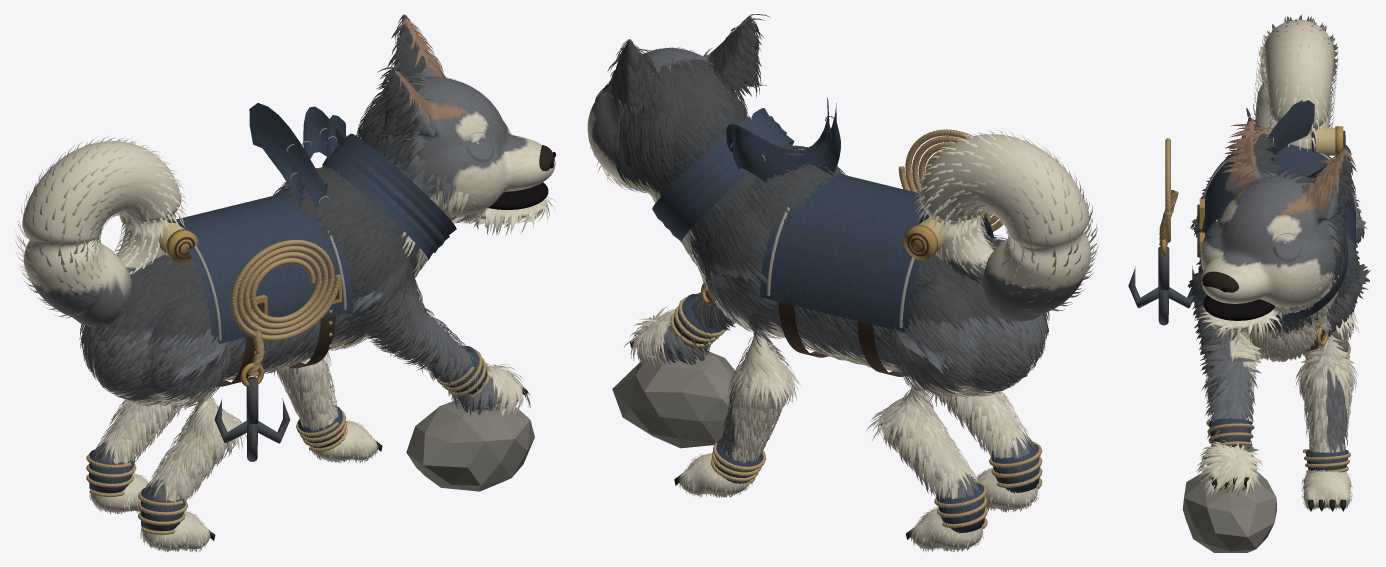
File: 09_Mine.glb
3 views of the same model, side by side, from view 1: azimuth 30°, elevation 25°; view 2: azimuth 150°, elevation 25°; view 3: azimuth 270°, elevation 25° (orthographic). The views are drawn at different scales.
Parts seen in each view (by area): view 1: FUR | groomed tapered surface clumps, ANATOMY | unified canine skin, ANATOMY | sculpted tail, TACK | fitted saddle cloth, DISPLAY | cliff foothold, FUR | directional tail plume, EXPORT | CLIMB | coiled hemp rope twisted ply.001, EXPORT | CLIMB | coiled hemp rope twisted ply, EXPORT | CLIMB | coiled hemp rope twisted ply.002, CLOTH | trailing scarf panel 0, CLOTH | trailing scarf panel 1, CLOTH | layered neck scarf.002 (+8 smaller); view 2: FUR | groomed tapered surface clumps, ANATOMY | unified canine skin, ANATOMY | sculpted tail, TACK | fitted saddle cloth, DISPLAY | cliff foothold, FUR | directional tail plume, CLOTH | trailing scarf panel 0, CLOTH | layered neck scarf, CLOTH | layered neck scarf.002, CLOTH | layered neck scarf.001, TACK | fitted ankle wrap.002, TACK | fitted ankle wrap.003 (+9 smaller); view 3: FUR | groomed tapered surface clumps, ANATOMY | unified canine skin, ANATOMY | sculpted tail, DISPLAY | cliff foothold, TACK | fitted saddle cloth, FUR | directional tail plume, CLOTH | trailing scarf panel 1, FACE | open mouth shadow, TACK | fitted ankle wrap, KIT | rolled parchment, TACK | fitted ankle wrap.001, FACE | shaped leather nose (+10 smaller).
Boxes of the visible parts, left/top/right/bottom form: FUR | groomed tapered surface clumps: left=79, top=15, right=556, bottom=552; ANATOMY | unified canine skin: left=85, top=14, right=555, bottom=550; ANATOMY | sculpted tail: left=22, top=141, right=181, bottom=327; TACK | fitted saddle cloth: left=177, top=195, right=352, bottom=343; DISPLAY | cliff foothold: left=406, top=400, right=534, bottom=491; FUR | directional tail plume: left=15, top=136, right=187, bottom=318; EXPORT | CLIMB | coiled hemp rope twisted ply.001: left=231, top=240, right=340, bottom=341; EXPORT | CLIMB | coiled hemp rope twisted ply: left=231, top=239, right=340, bottom=341; EXPORT | CLIMB | coiled hemp rope twisted ply.002: left=231, top=239, right=340, bottom=341; CLOTH | trailing scarf panel 0: left=256, top=106, right=344, bottom=205; CLOTH | trailing scarf panel 1: left=249, top=103, right=346, bottom=208; CLOTH | layered neck scarf.002: left=322, top=152, right=442, bottom=260; FUR | groomed tapered surface clumps: left=588, top=14, right=1049, bottom=552; ANATOMY | unified canine skin: left=587, top=15, right=1043, bottom=549; ANATOMY | sculpted tail: left=919, top=134, right=1091, bottom=321; TACK | fitted saddle cloth: left=760, top=173, right=993, bottom=332; DISPLAY | cliff foothold: left=612, top=350, right=736, bottom=448; FUR | directional tail plume: left=913, top=129, right=1099, bottom=316; CLOTH | trailing scarf panel 0: left=732, top=103, right=840, bottom=182; CLOTH | layered neck scarf: left=652, top=108, right=778, bottom=221; CLOTH | layered neck scarf.002: left=670, top=124, right=794, bottom=241; CLOTH | layered neck scarf.001: left=662, top=116, right=786, bottom=229; TACK | fitted ankle wrap.002: left=991, top=443, right=1039, bottom=493; TACK | fitted ankle wrap.003: left=936, top=483, right=984, bottom=533; FUR | groomed tapered surface clumps: left=1187, top=108, right=1370, bottom=509; ANATOMY | unified canine skin: left=1194, top=117, right=1362, bottom=508; ANATOMY | sculpted tail: left=1255, top=19, right=1334, bottom=148; DISPLAY | cliff foothold: left=1182, top=470, right=1276, bottom=552; TACK | fitted saddle cloth: left=1201, top=144, right=1355, bottom=249; FUR | directional tail plume: left=1251, top=14, right=1338, bottom=151; CLOTH | trailing scarf panel 1: left=1266, top=100, right=1320, bottom=182; FACE | open mouth shadow: left=1203, top=295, right=1275, bottom=320; TACK | fitted ankle wrap: left=1209, top=418, right=1252, bottom=448; KIT | rolled parchment: left=1257, top=127, right=1335, bottom=155; TACK | fitted ankle wrap.001: left=1306, top=449, right=1348, bottom=470; FACE | shaped leather nose: left=1202, top=271, right=1238, bottom=292.
Bounding box in the file's own units: 1.56 × 1.27 × 0.7055.
14 materials, 1 textured.
